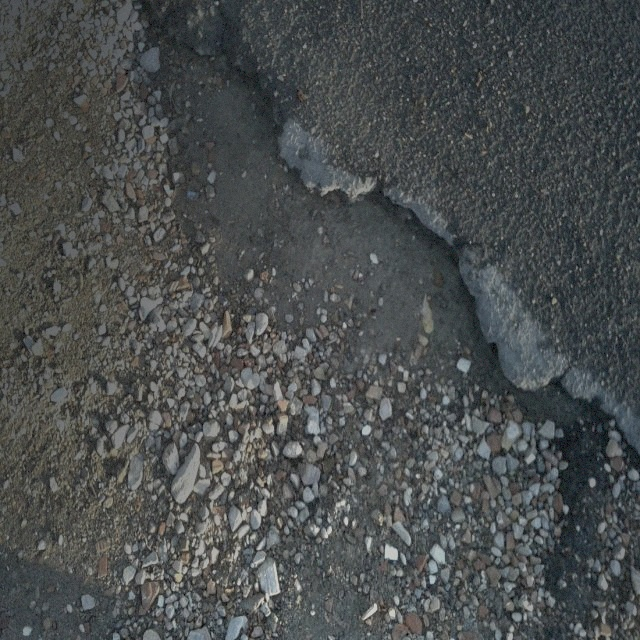pothole: (161, 14, 542, 420)
